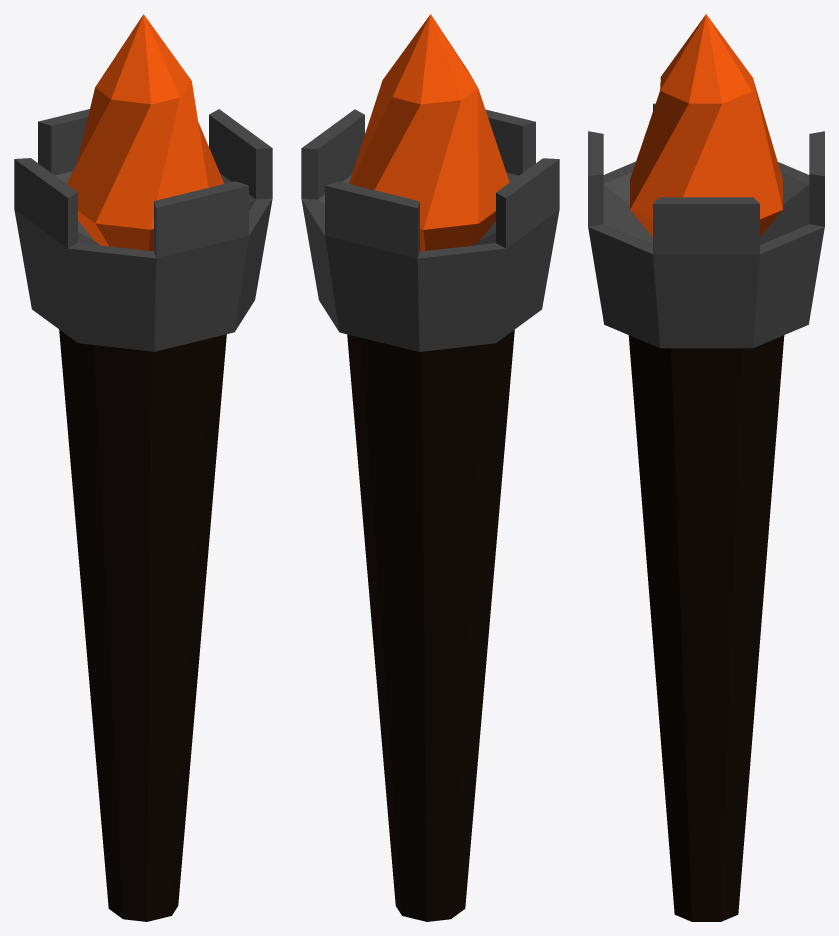
The model's file is Torch.fbx.
3 views of the same model, side by side, from view 1: azimuth 30°, elevation 25°; view 2: azimuth 150°, elevation 25°; view 3: azimuth 270°, elevation 25° (orthographic).
Parts seen in each view (by area): view 1: Cube; view 2: Cube; view 3: Cube.
Boxes of the visible parts, left/top/right/bottom form: Cube: left=14, top=14, right=272, bottom=921; Cube: left=301, top=14, right=559, bottom=921; Cube: left=588, top=14, right=824, bottom=921.
Size of the model in its own units: 40.87 by 170 by 40.87.
